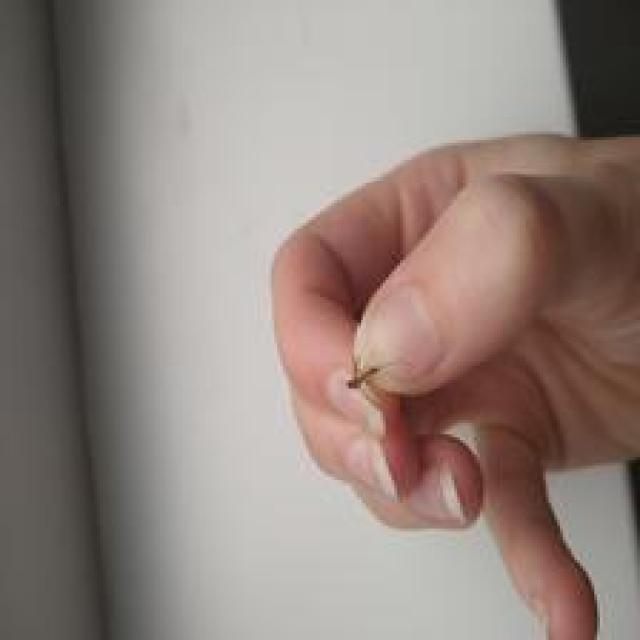Culex: (346, 363, 383, 391)
